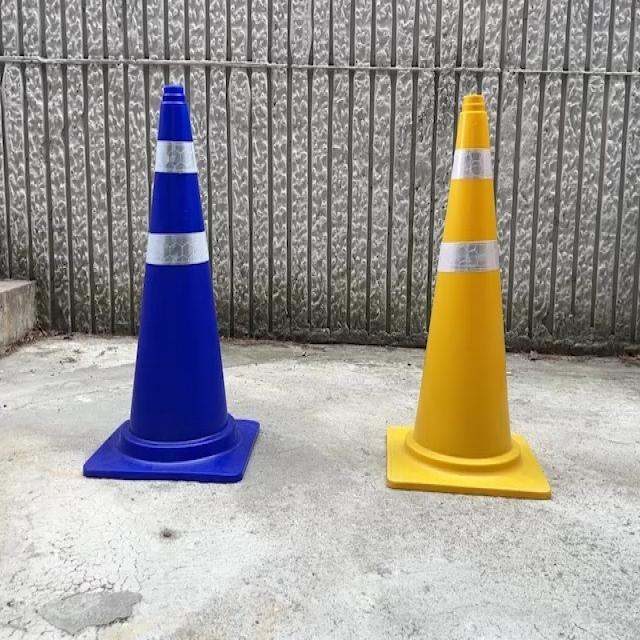b_rub: (83, 86, 260, 482)
y_rub: (386, 95, 551, 500)
